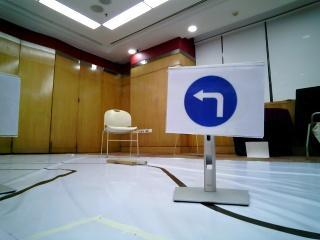left: (176, 68, 248, 131)
